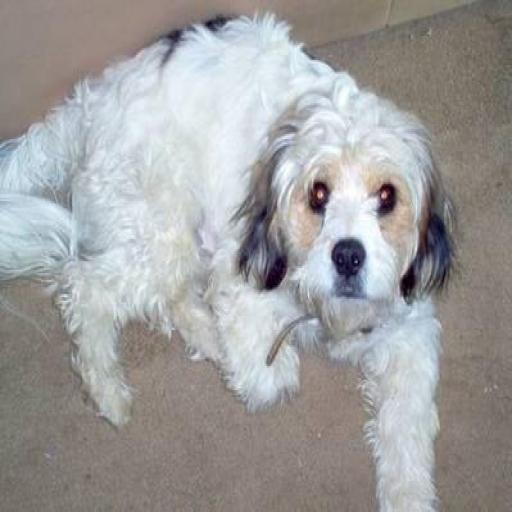dog_face: (243, 92, 459, 324)
